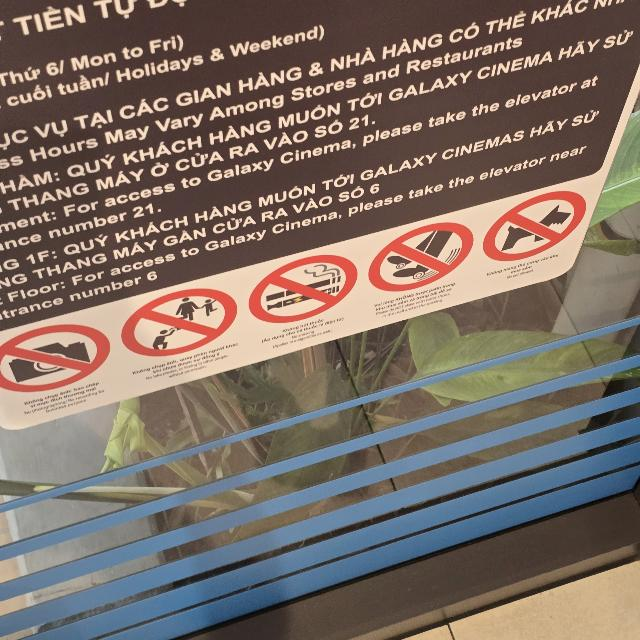cam hut thuoc: (249, 255, 357, 323)
